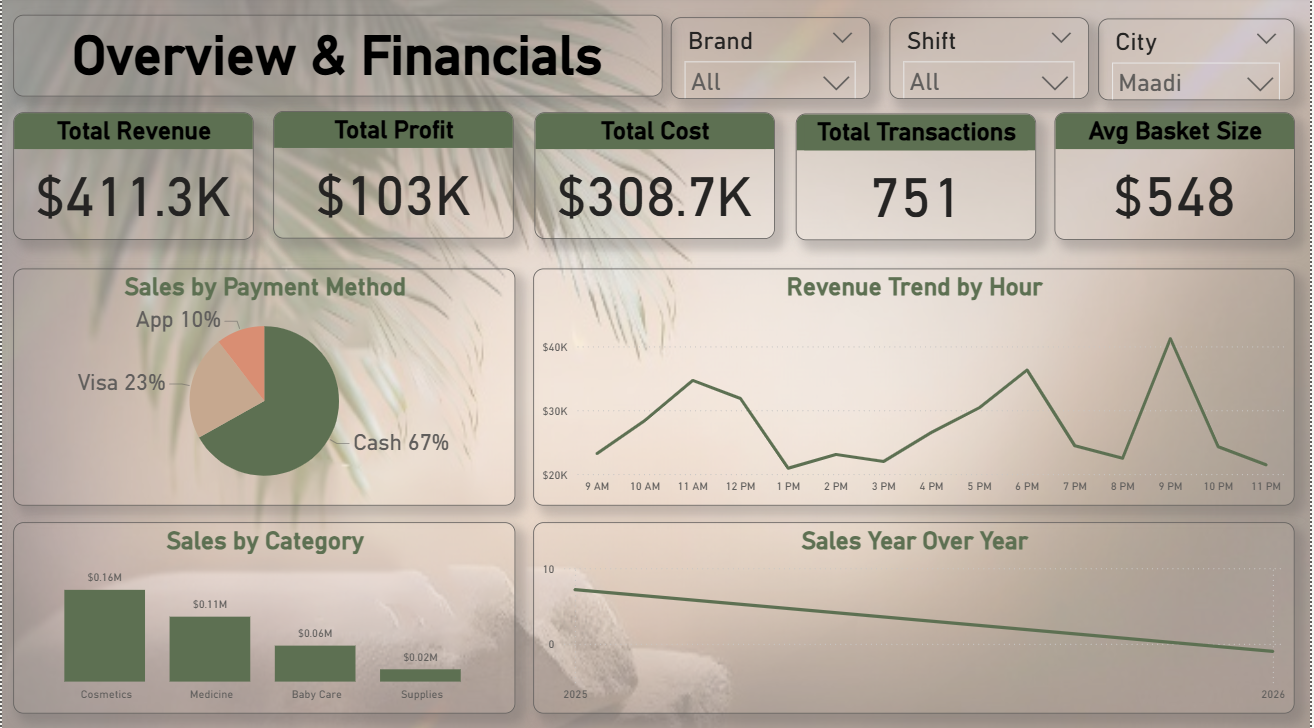

The dashboard page shown, as its layout file describes it:
{"tool":"powerbi","page":{"name":"Overview & Financials","canvas":[1280,720],"ordinal":0},"visuals":[{"type":"pieChart","title":"Sales by Payment Method","fields":{"Category":["Dim Payment_Method.Payment_Method"],"Y":["Table.Total_revenue"]},"box":[11,266.6,491.6,232.3],"z":1000},{"type":"card","title":"Total Cost ","fields":{"Values":["Table.Total_cost"]},"box":[520.9,114.3,235,123.8],"z":2000},{"type":"card","title":"Total Revenue","fields":{"Values":["Table.Total_revenue"]},"box":[10.5,113.8,235,125.1],"z":3000},{"type":"card","title":"Total Profit","fields":{"Values":["Table.Total_profit"]},"box":[265.7,112.6,235,125.1],"z":4000},{"type":"card","title":"Total Transactions","fields":{"Values":["Table.Total Transactions"]},"box":[776.1,114.6,235,123.8],"z":5000},{"type":"card","title":"Avg Basket Size","fields":{"Values":["Table.Avg Basket Size"]},"box":[1030,113.4,235,125.1],"z":6000},{"type":"columnChart","title":"Sales by Category","fields":{"Y":["Table.Total_revenue"],"Category":["Dim_Products.Category","Dim_Products.SubCategory"]},"box":[11,514.8,491.6,187.1],"z":7000},{"type":"lineChart","title":"Revenue Trend by Hour","fields":{"Category":["Dim_Time.Hour Format"],"Y":["Table.Total_revenue"]},"box":[519.7,266.6,744.7,232.3],"z":8000},{"type":"slicer","fields":{"Values":["Dim_Customers.City"]},"box":[1073,21.4,191.6,80],"z":9000},{"type":"slicer","fields":{"Values":["Dim_Time.Shift Name"]},"box":[868,21.1,194.9,80.3],"z":10000},{"type":"textbox","box":[10.5,18.4,634.9,80.3],"z":11000},{"type":"slicer","fields":{"Values":["Dim_Products.Brand"]},"box":[654.6,21.1,194.9,80.3],"z":12000},{"type":"lineChart","title":"Sales Year Over Year ","fields":{"Y":["Table.Total_revenue YoY%"],"Category":["Dim_Date.Date.Variation.Date Hierarchy.Year"]},"box":[519.7,514.8,744.7,187.1],"z":13000}]}

Visuals, with their boxes in screenshot pixels (x1, y1, x2, y2), scaled from the page's 1280x720 canvas onto the 1314x728 screenshot:
"Sales by Payment Method" pieChart: detection(11, 270, 516, 504)
"Total Cost " card: detection(535, 116, 776, 241)
"Total Revenue" card: detection(11, 115, 252, 242)
"Total Profit" card: detection(273, 114, 514, 240)
"Total Transactions" card: detection(797, 116, 1038, 241)
"Avg Basket Size" card: detection(1057, 115, 1299, 241)
"Sales by Category" columnChart: detection(11, 521, 516, 710)
"Revenue Trend by Hour" lineChart: detection(534, 270, 1298, 504)
slicer - Dim_Customers.City: detection(1102, 22, 1298, 103)
slicer - Dim_Time.Shift Name: detection(891, 21, 1091, 103)
textbox: detection(11, 19, 663, 100)
slicer - Dim_Products.Brand: detection(672, 21, 872, 103)
"Sales Year Over Year " lineChart: detection(534, 521, 1298, 710)
